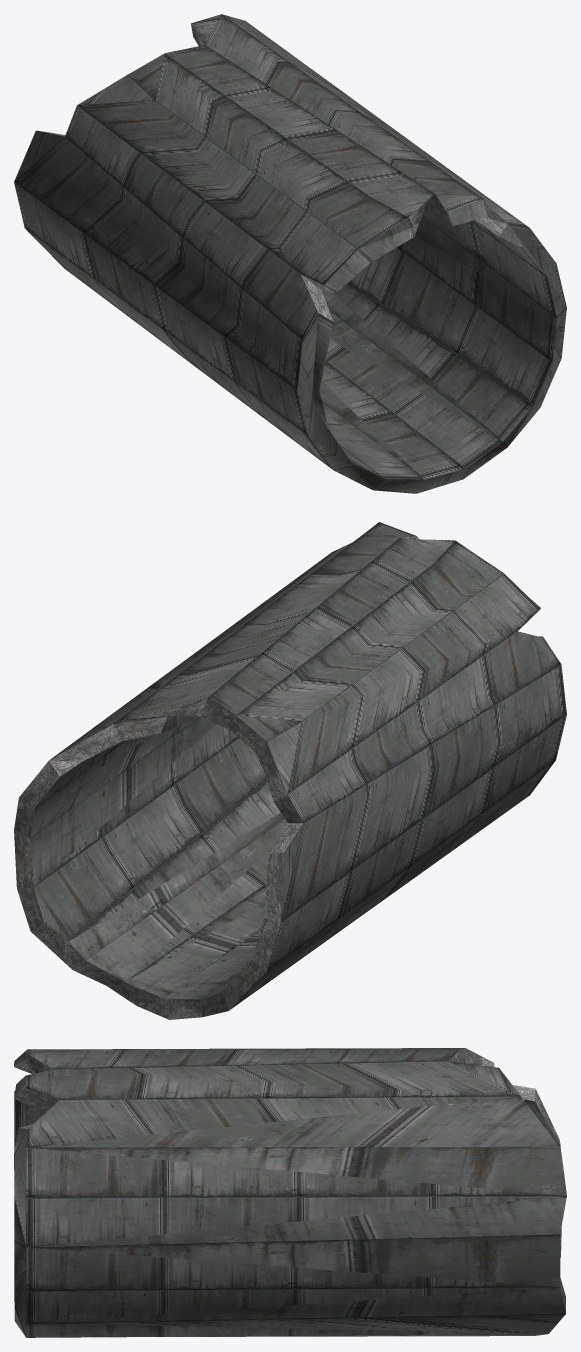
The model's file is Prop_Wj006_lod1.glb.
3 views of the same model, one above another, from view 1: azimuth 30°, elevation 25°; view 2: azimuth 150°, elevation 25°; view 3: azimuth 270°, elevation 25° (orthographic). The views are drawn at different scales.
Visible parts, largest first — view 1: xiutz_wj006_lod1_lod1; view 2: xiutz_wj006_lod1_lod1; view 3: xiutz_wj006_lod1_lod1.
Part boxes in pixels (bbox=[...]): xiutz_wj006_lod1_lod1: bbox=[14, 14, 566, 493]; xiutz_wj006_lod1_lod1: bbox=[14, 522, 566, 1019]; xiutz_wj006_lod1_lod1: bbox=[14, 1048, 566, 1337].
Bounding box in the file's own units: 70.09 × 69.91 × 132.
1 material, 1 textured.
